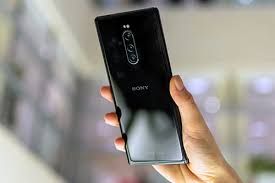sony: (79, 5, 190, 168)
